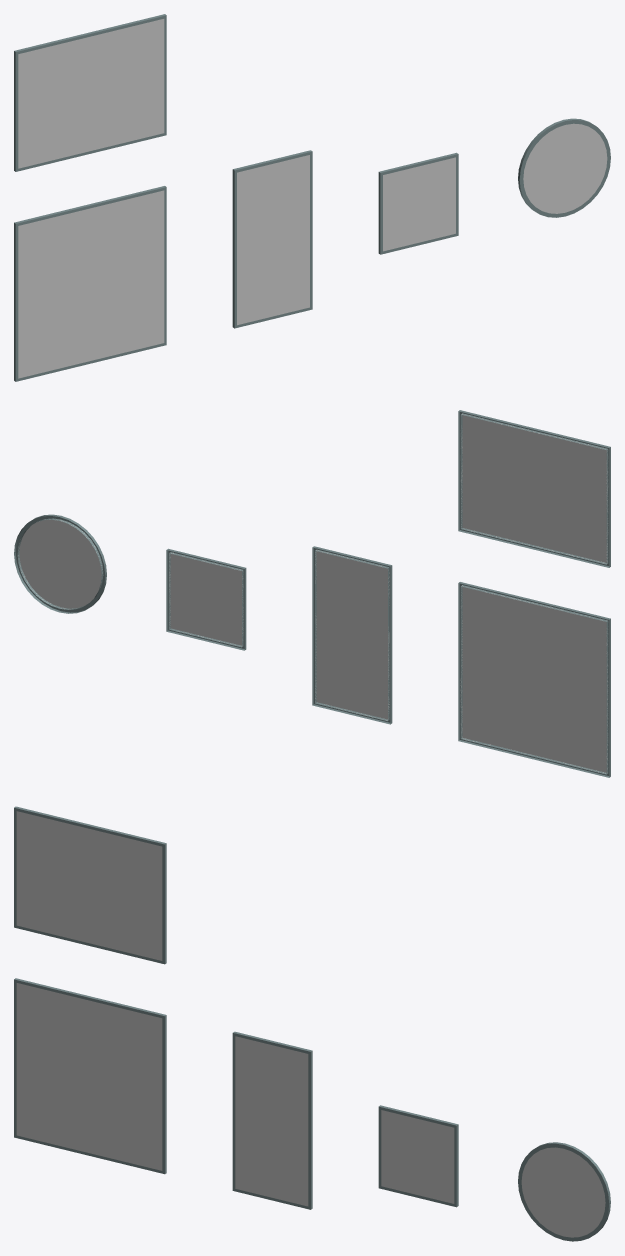
File: art.fbx
3 views of the same model, one above another, from view 1: azimuth 30°, elevation 25°; view 2: azimuth 150°, elevation 25°; view 3: azimuth 330°, elevation 25° (orthographic).
Visible parts, largest first — view 1: art_1, art_5, art_2, art_4, art_3, wire_1, wire_5, wire_2, wire_4, wire_3; view 2: art_1, art_5, art_2, art_4, art_3, wire_1, wire_5, wire_2, wire_4, wire_3; view 3: art_1, art_5, art_2, art_4, art_3, wire_1, wire_5, wire_2, wire_4, wire_3.
Part boxes in pixels (x1=…): art_1: x1=18, y1=190, x2=164, y2=378; art_5: x1=18, y1=19, x2=164, y2=168; art_2: x1=237, y1=155, x2=309, y2=325; art_4: x1=523, y1=123, x2=607, y2=213; art_3: x1=383, y1=157, x2=455, y2=251; wire_1: x1=14, y1=186, x2=166, y2=381; wire_5: x1=14, y1=14, x2=166, y2=171; wire_2: x1=232, y1=150, x2=312, y2=328; wire_4: x1=518, y1=118, x2=610, y2=217; wire_3: x1=378, y1=152, x2=458, y2=254; art_1: x1=460, y1=585, x2=608, y2=773; art_5: x1=461, y1=413, x2=608, y2=563; art_2: x1=315, y1=550, x2=389, y2=720; art_4: x1=18, y1=519, x2=103, y2=609; art_3: x1=169, y1=552, x2=243, y2=646; wire_1: x1=458, y1=582, x2=610, y2=777; wire_5: x1=458, y1=410, x2=610, y2=567; wire_2: x1=312, y1=546, x2=392, y2=724; wire_4: x1=14, y1=514, x2=106, y2=613; wire_3: x1=166, y1=548, x2=246, y2=650; art_1: x1=16, y1=983, x2=162, y2=1170; art_5: x1=16, y1=811, x2=162, y2=960; art_2: x1=235, y1=1036, x2=308, y2=1206; art_4: x1=521, y1=1147, x2=605, y2=1237; art_3: x1=381, y1=1110, x2=454, y2=1203; wire_1: x1=14, y1=978, x2=166, y2=1174; wire_5: x1=14, y1=806, x2=166, y2=964; wire_2: x1=232, y1=1031, x2=312, y2=1209; wire_4: x1=518, y1=1142, x2=610, y2=1241; wire_3: x1=378, y1=1105, x2=458, y2=1207.
Bounding box in the file's own units: 8.16 × 4.32 × 0.0423.
